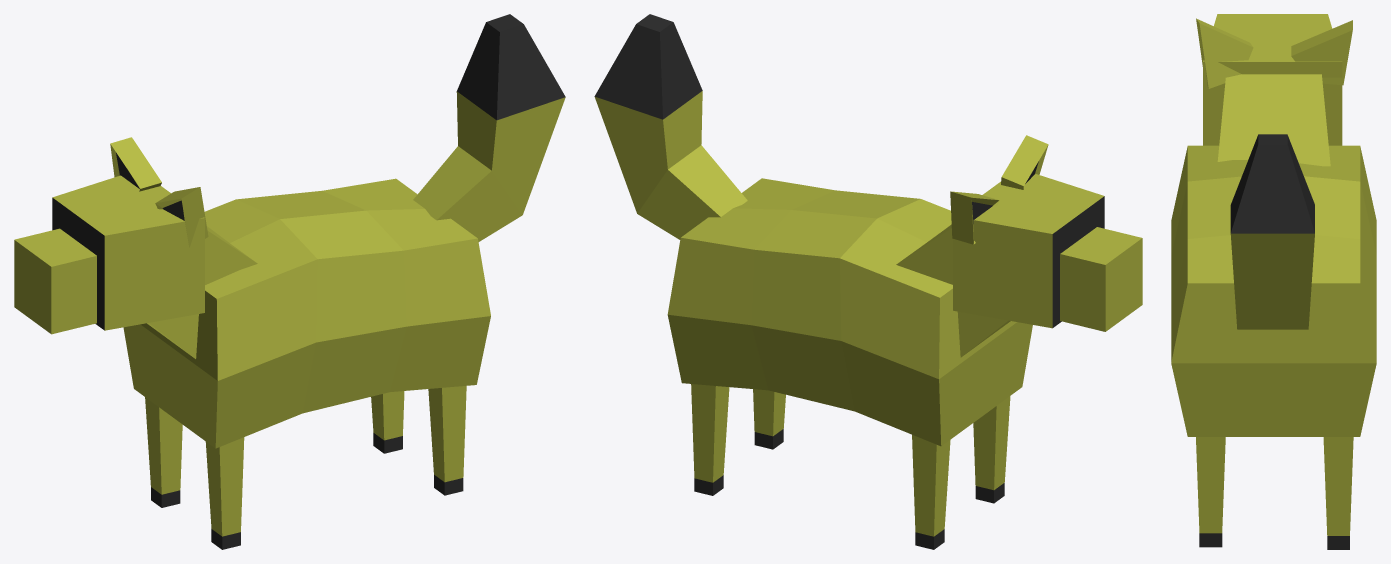
The model's file is cat1.glb.
The picture shows the model from 3 angles, left to right: view 1: azimuth 30°, elevation 25°; view 2: azimuth 150°, elevation 25°; view 3: azimuth 270°, elevation 25°; orthographic projection. The views are drawn at different scales.
Parts seen in each view (by area): view 1: Cube; view 2: Cube; view 3: Cube.
Boxes of the visible parts, bbox=[...] form: Cube: bbox=[14, 14, 565, 549]; Cube: bbox=[594, 14, 1142, 549]; Cube: bbox=[1171, 14, 1376, 549].
Bounding box in the file's own units: 7.25 × 5.77 × 2.38.
